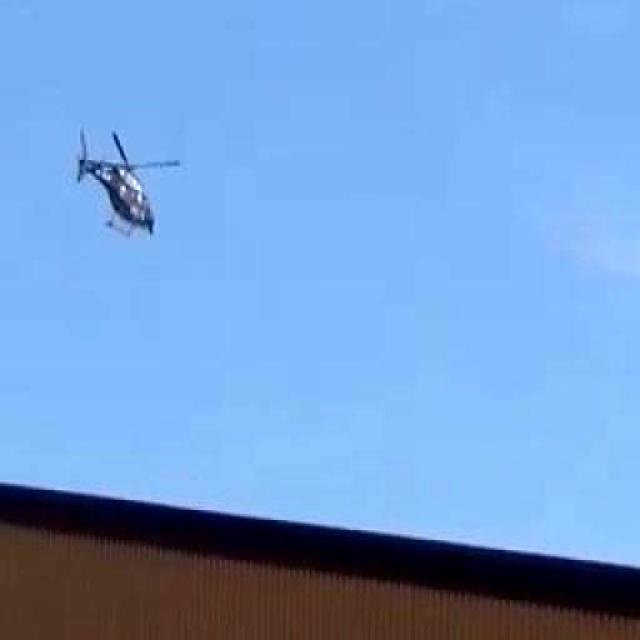drone: (48, 96, 199, 280)
